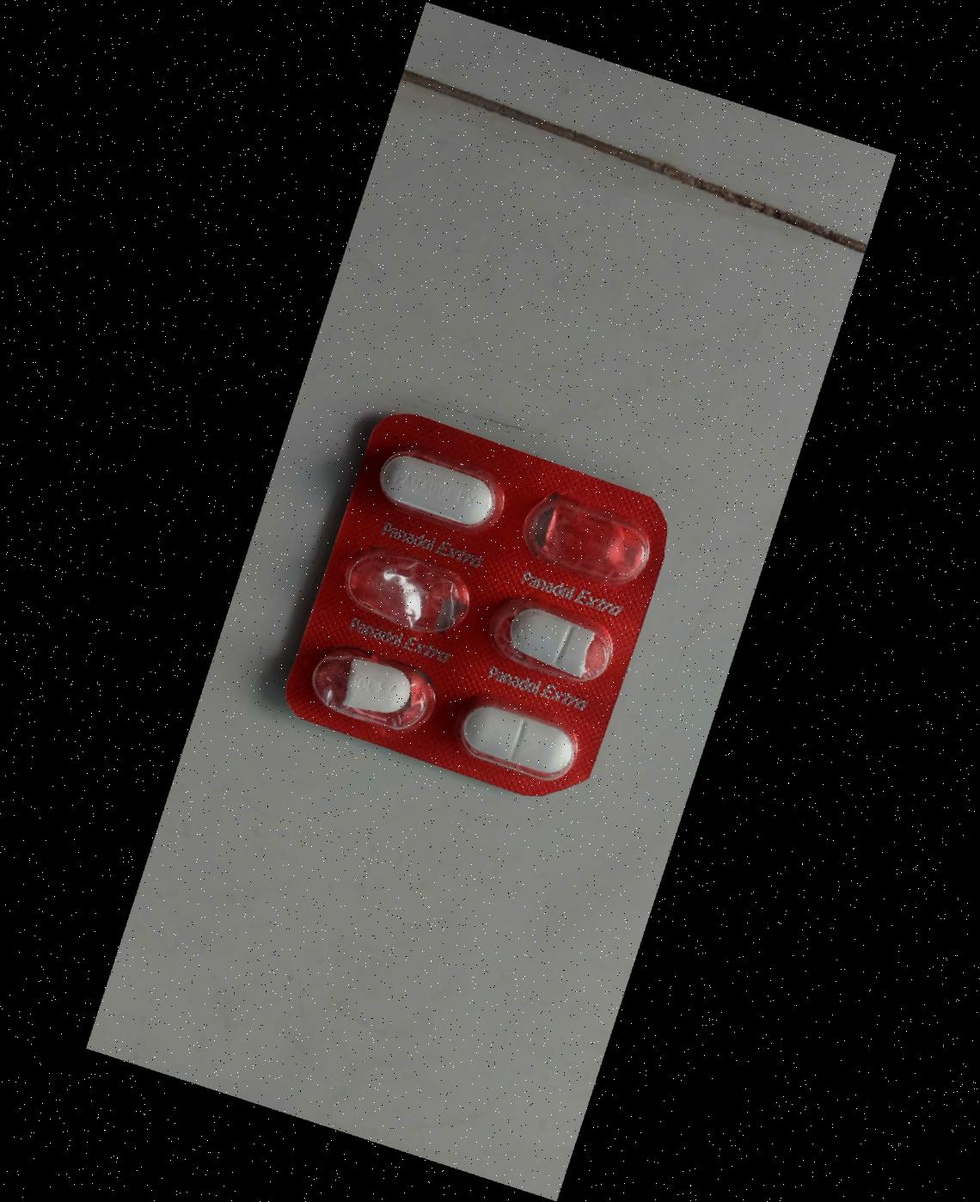Empty: (329, 533, 484, 650), (519, 482, 673, 599)
Full: (353, 431, 508, 548), (443, 679, 597, 796)
Partial: (479, 582, 633, 699), (299, 627, 453, 744)
